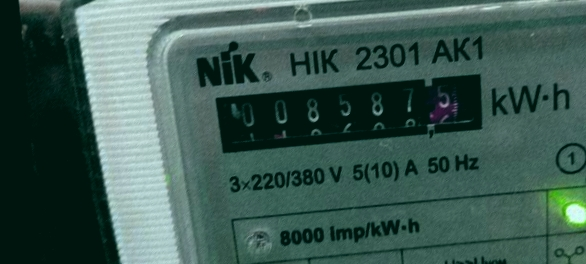0: (236, 99, 256, 129), (270, 97, 290, 126)
5: (434, 82, 453, 113), (334, 91, 353, 120)
7: (398, 84, 417, 116)
8: (366, 88, 385, 119), (302, 95, 321, 125)
screen: (195, 58, 503, 167)
